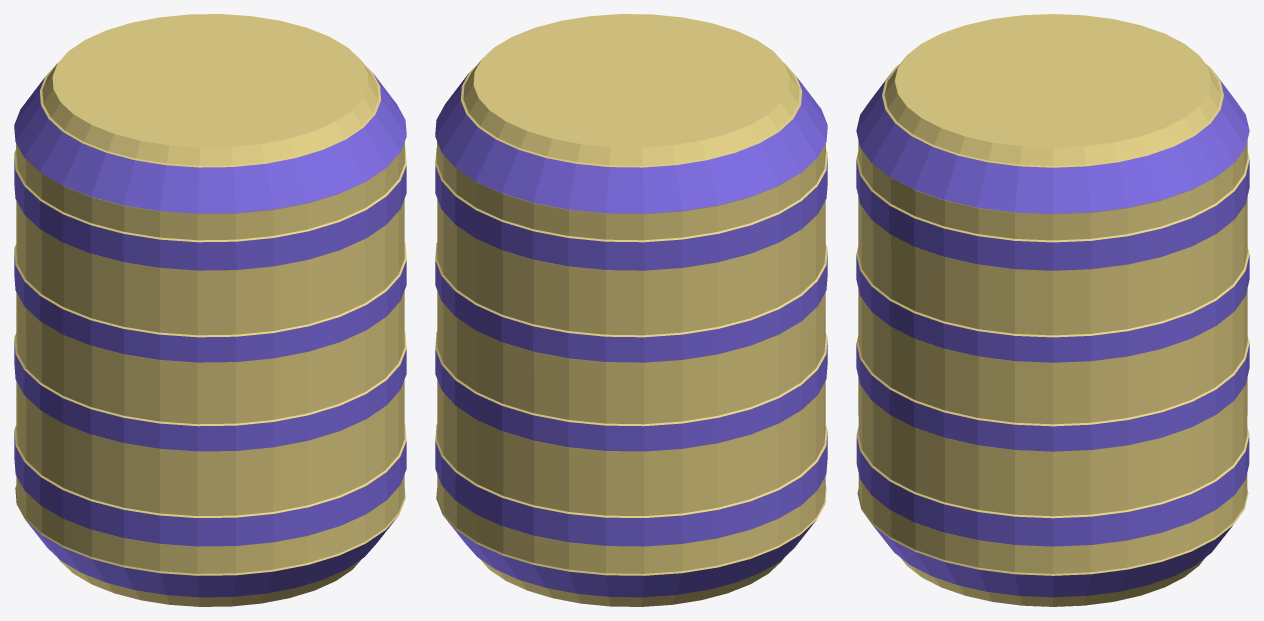
File: Barrel.fbx
The picture shows the model from 3 angles, left to right: view 1: azimuth 30°, elevation 25°; view 2: azimuth 150°, elevation 25°; view 3: azimuth 270°, elevation 25°; orthographic projection.
Parts seen in each view (by area): view 1: Barrel_Base; view 2: Barrel_Base; view 3: Barrel_Base.
Part boxes in pixels (box(x1,y1,x2,y2)): Barrel_Base: box(14, 14, 406, 606); Barrel_Base: box(435, 14, 827, 606); Barrel_Base: box(856, 14, 1249, 606).
Bounding box in the file's own units: 310 × 400 × 310.
